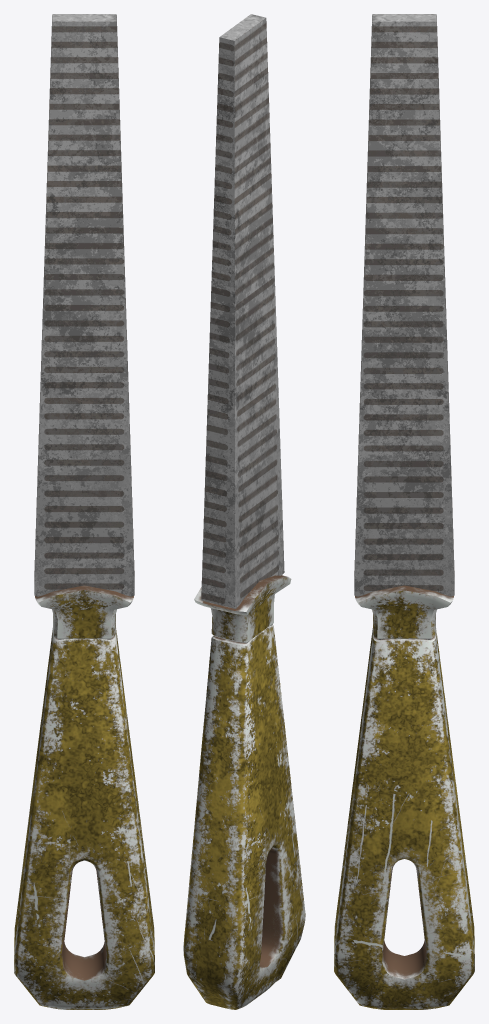
3 renders of one model, left to right at view 1: azimuth 90°, elevation 25°; view 2: azimuth 150°, elevation 25°; view 3: azimuth 270°, elevation 25°, orthographic.
Parts seen in each view (by area): view 1: Grip.001_Baked; view 2: Grip.001_Baked; view 3: Grip.001_Baked.
Boxes of the visible parts, x1=… form: Grip.001_Baked: x1=14, y1=14, x2=154, y2=1009; Grip.001_Baked: x1=183, y1=14, x2=305, y2=1009; Grip.001_Baked: x1=334, y1=14, x2=474, y2=1009.
Size of the model in its own units: 4.08 by 64.41 by 8.32.
Materials: 1 (1 with a texture image).
